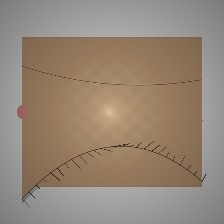corneal_ulcer: (95, 90, 151, 135)
